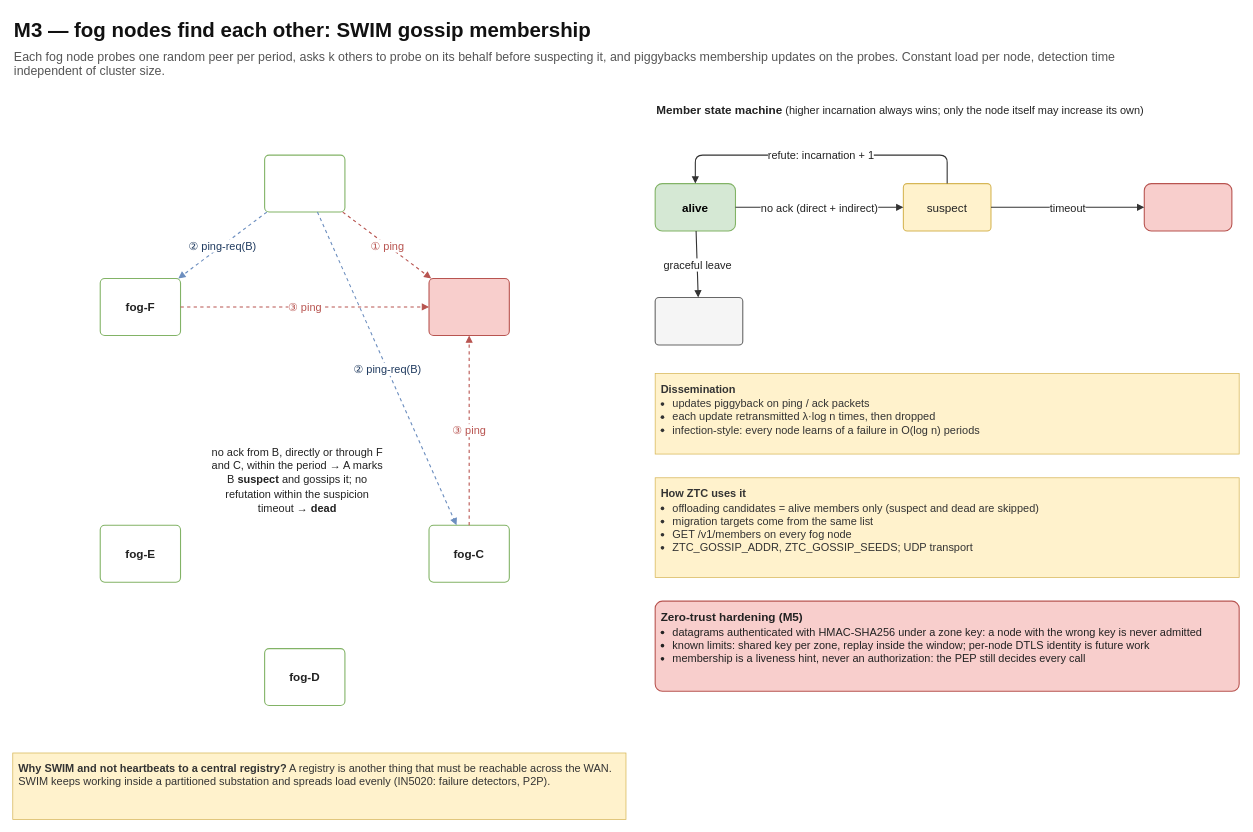
Some shapes in this 1253 by 832 pixel diagram are drawn without their labels. The centre of each missing label's shape, as x and y in pixels:
dead: point 1187,207
fog-A: point 304,183
fog-B: point 469,307
left: point 698,321
